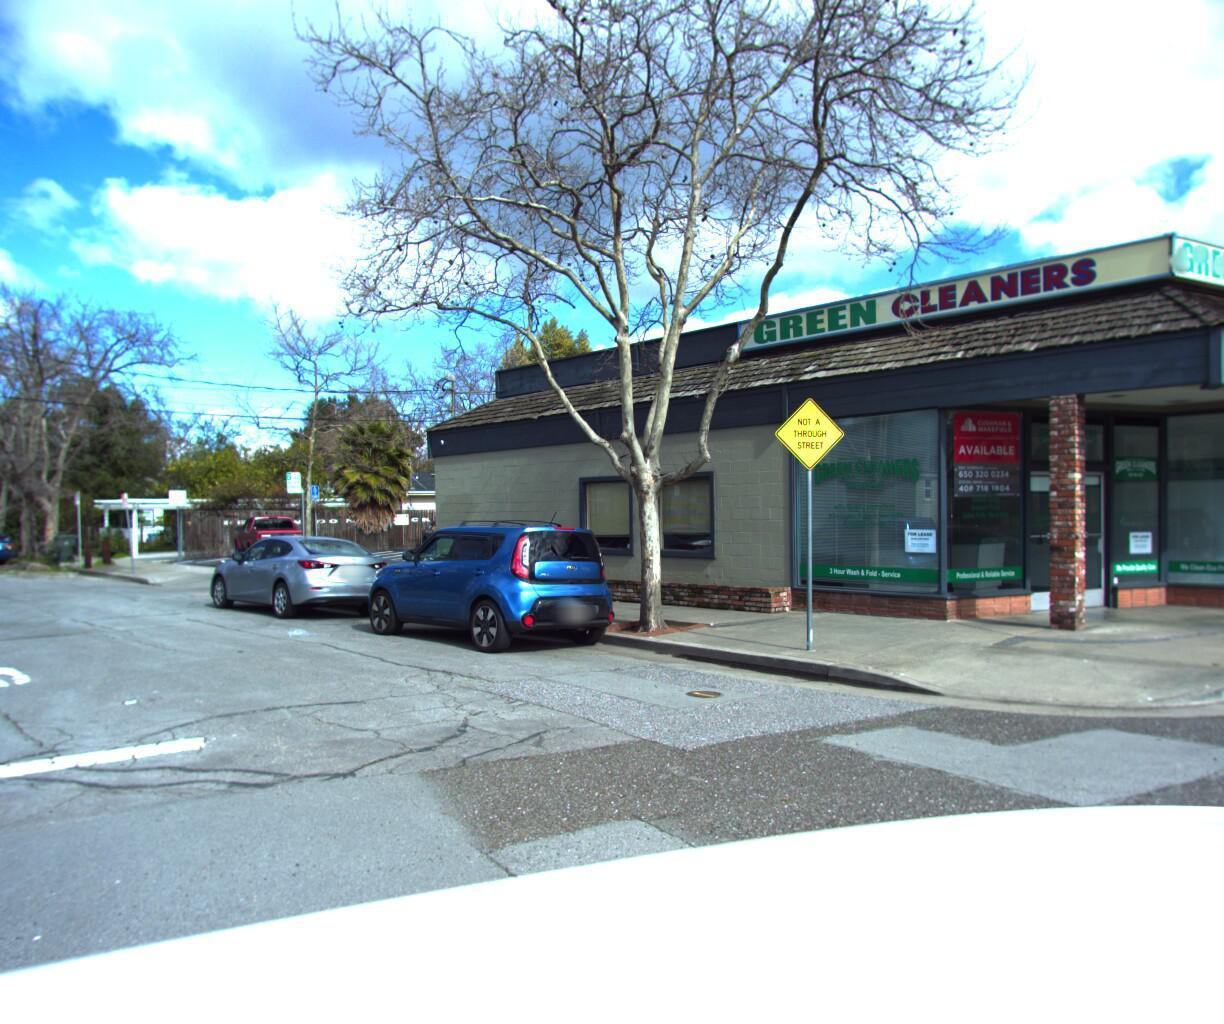car: (351, 518, 641, 672), (200, 532, 409, 635), (234, 517, 315, 571), (0, 534, 29, 574)
